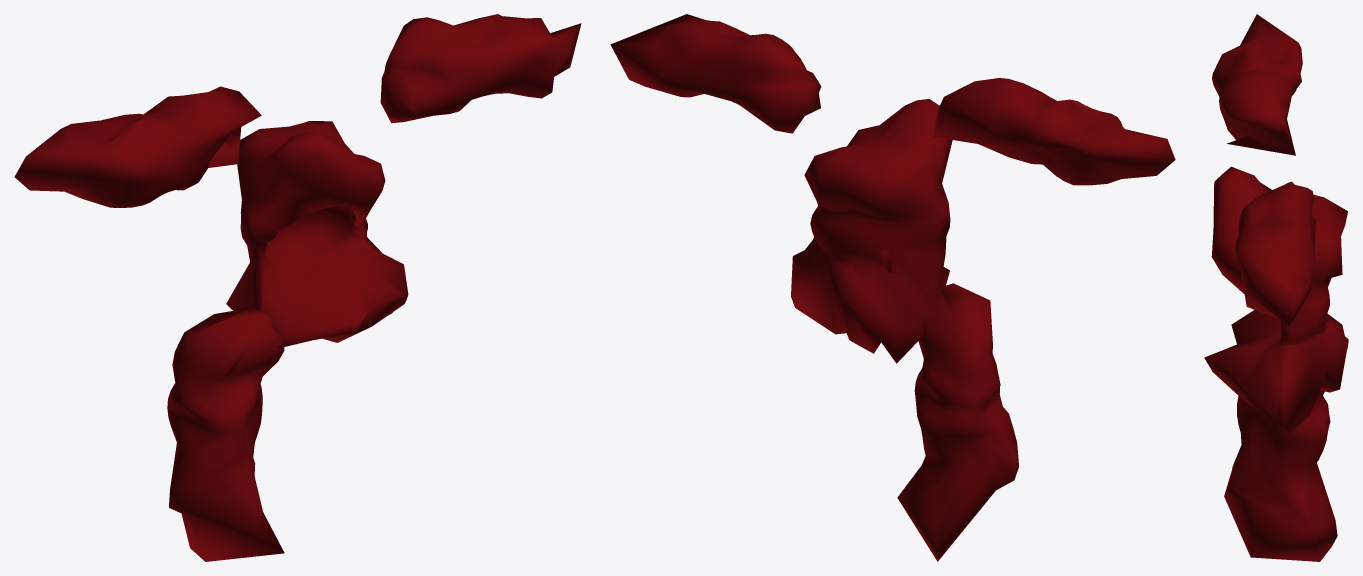
The model's file is VPU corrupted (only the fleshy parts).fbx.
3 renders of one model, left to right at view 1: azimuth 30°, elevation 25°; view 2: azimuth 150°, elevation 25°; view 3: azimuth 270°, elevation 25°, orthographic. The views are drawn at different scales.
Visible parts, largest first — view 1: Sphere.004, Sphere.005, Sphere.006, Sphere.007; view 2: Sphere.004, Sphere.005, Sphere.006, Sphere.007; view 3: Sphere.004, Sphere.005, Sphere.007, Sphere.006.
Part boxes in pixels (x1,y1,x2,y2): Sphere.004: [226, 121, 408, 347]; Sphere.005: [167, 307, 284, 561]; Sphere.006: [14, 86, 261, 207]; Sphere.007: [380, 14, 581, 123]; Sphere.004: [791, 99, 952, 363]; Sphere.005: [897, 283, 1018, 561]; Sphere.006: [933, 78, 1175, 185]; Sphere.007: [610, 14, 821, 133]; Sphere.004: [1204, 166, 1348, 433]; Sphere.005: [1224, 390, 1337, 561]; Sphere.007: [1235, 181, 1315, 326]; Sphere.006: [1212, 14, 1302, 155].
Bounding box in the file's own units: 2500 × 2047 × 571.
